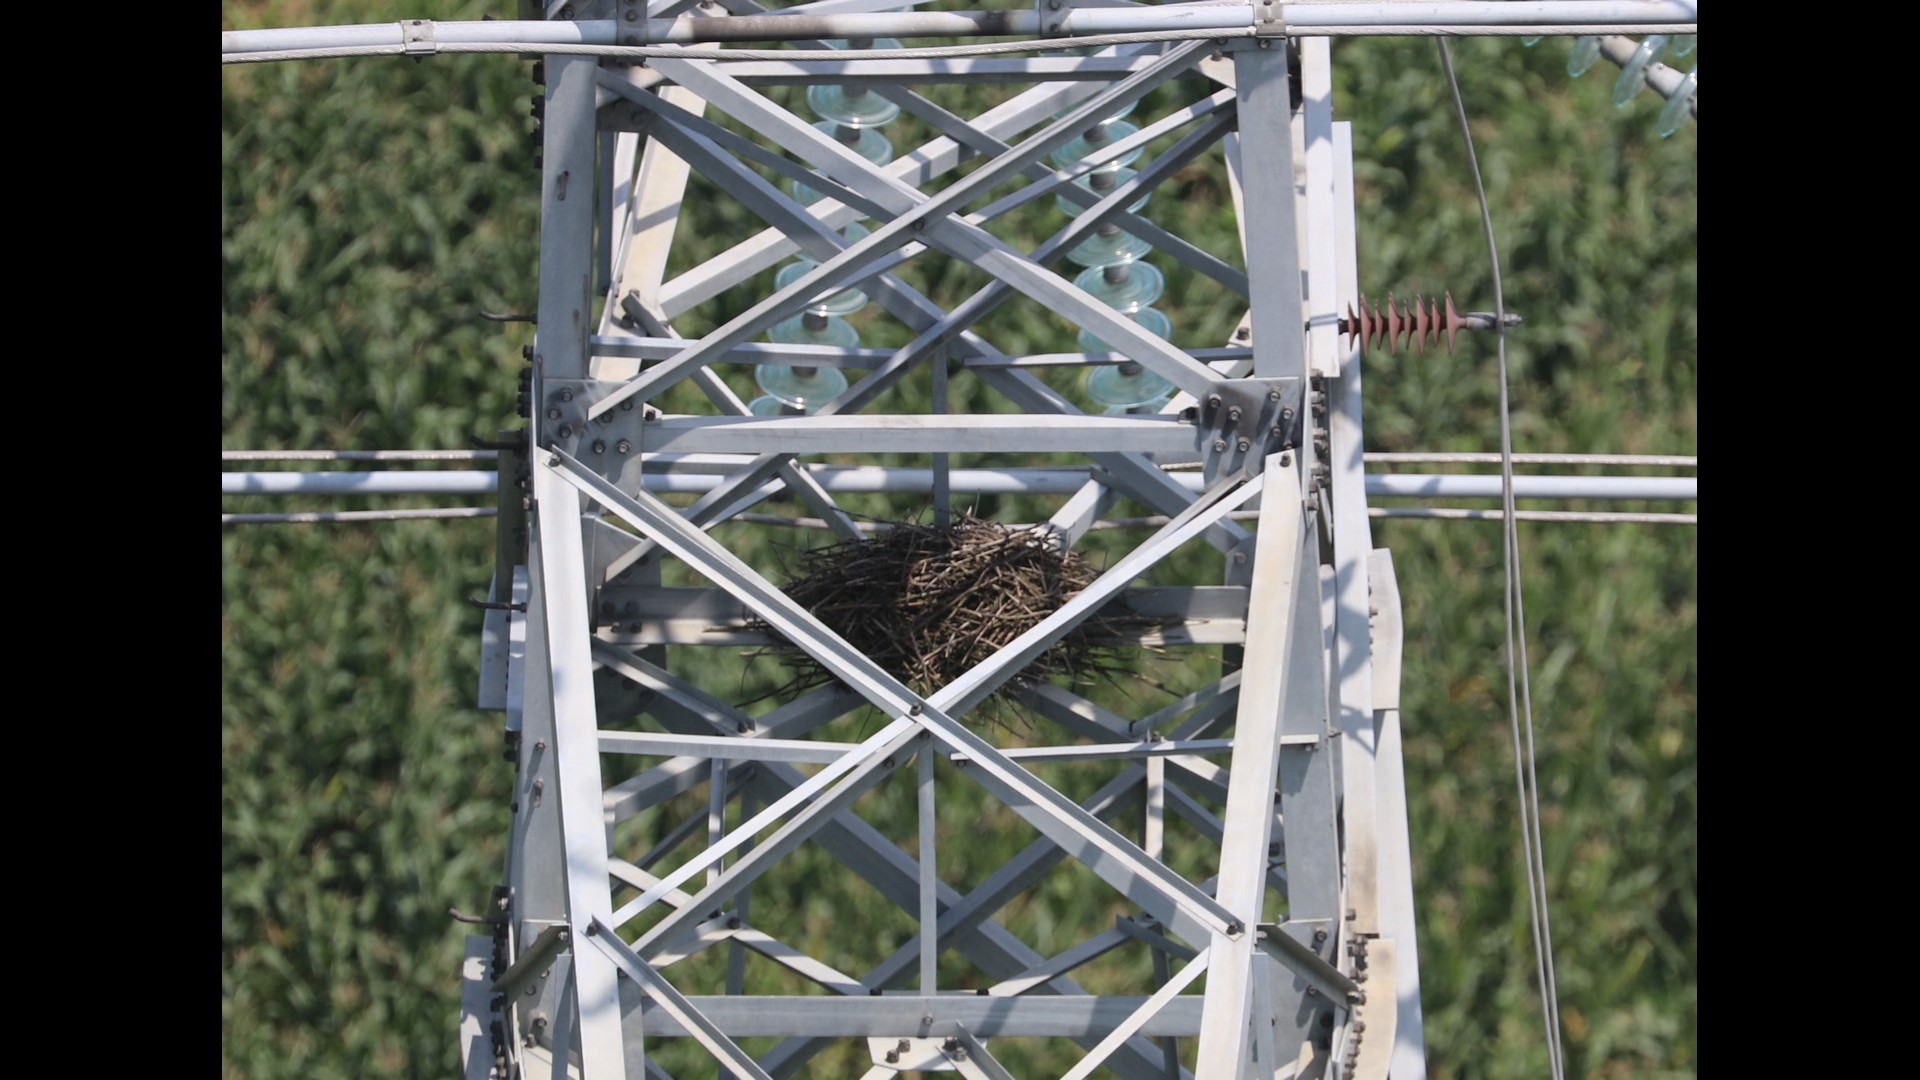niaowo: (757, 498, 1147, 731)
